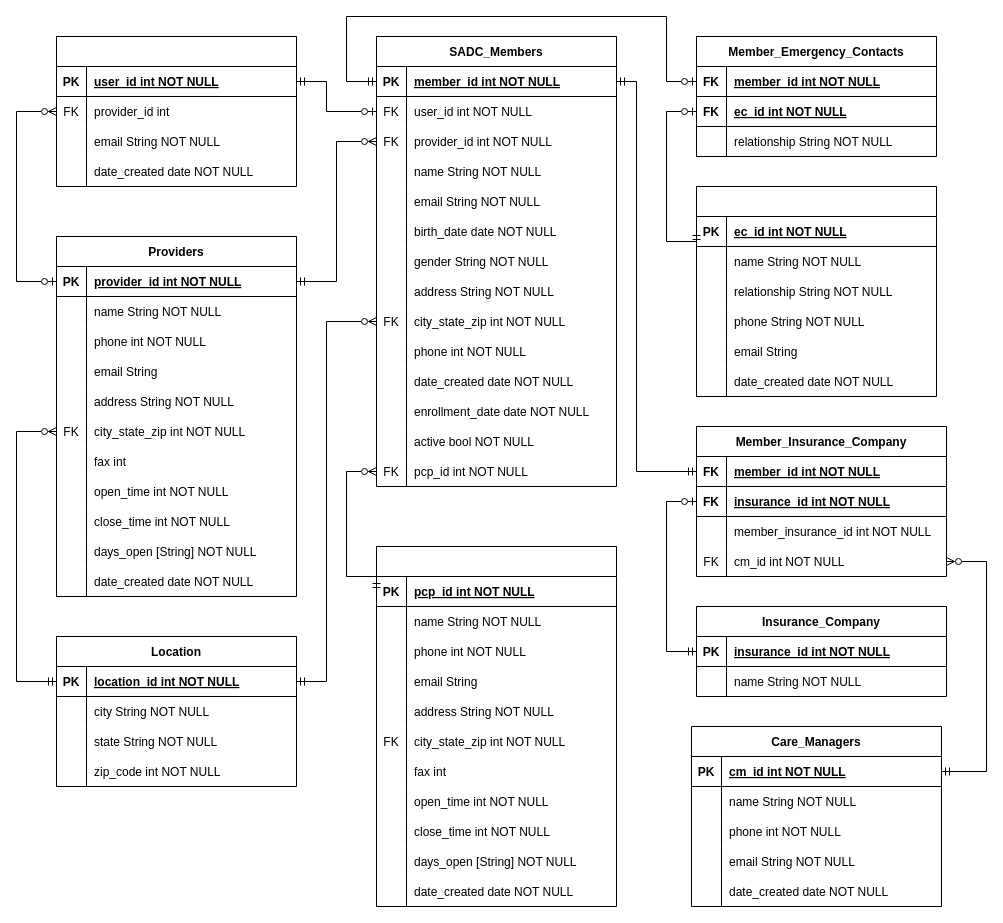
Some shapes in this 1003 by 923 pixel diagram are drawn without their labels. Each missing label, with the box of its shape:
Emergency_Contacts: (696, 186, 936, 396)
Primary_Care_Physicians: (376, 546, 616, 906)
Users: (56, 36, 296, 186)
